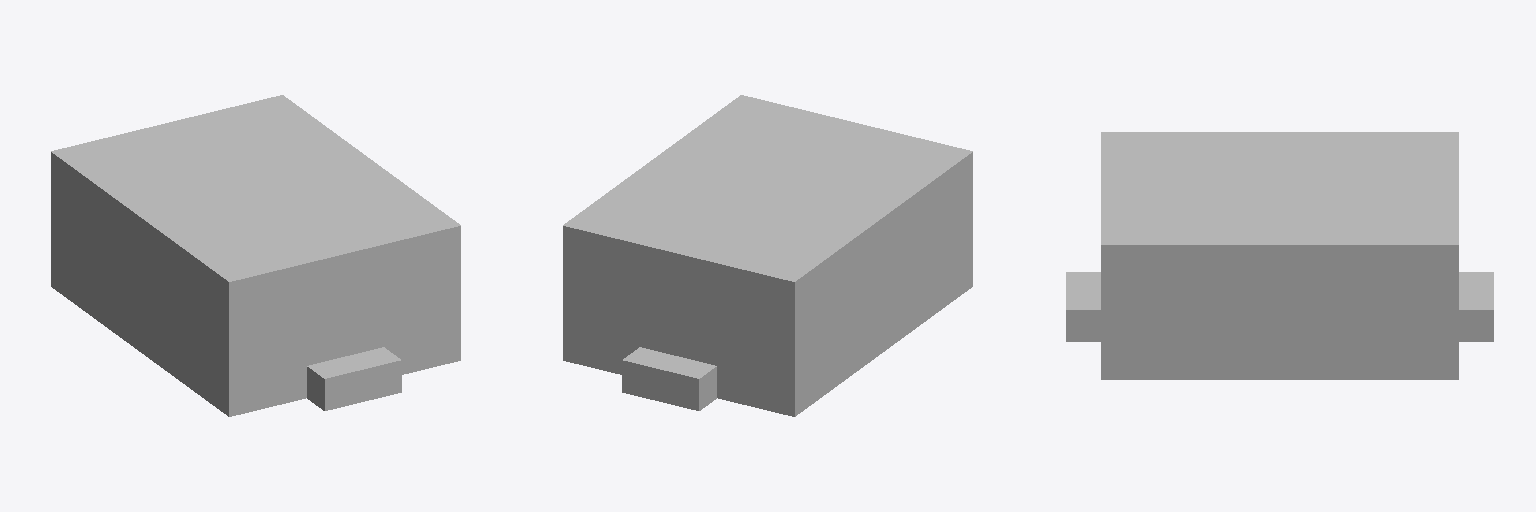
File: MapSmall.obj
3 renders of one model, left to right at view 1: azimuth 30°, elevation 25°; view 2: azimuth 150°, elevation 25°; view 3: azimuth 270°, elevation 25°, orthographic.
Parts seen in each view (by area): view 1: Map; view 2: Map; view 3: Map.
Part boxes in pixels (x1,y1,x2,y2): Map: (51, 95, 460, 416); Map: (563, 95, 972, 416); Map: (1066, 132, 1493, 379).
Bounding box in the file's own units: 45 × 25 × 72.